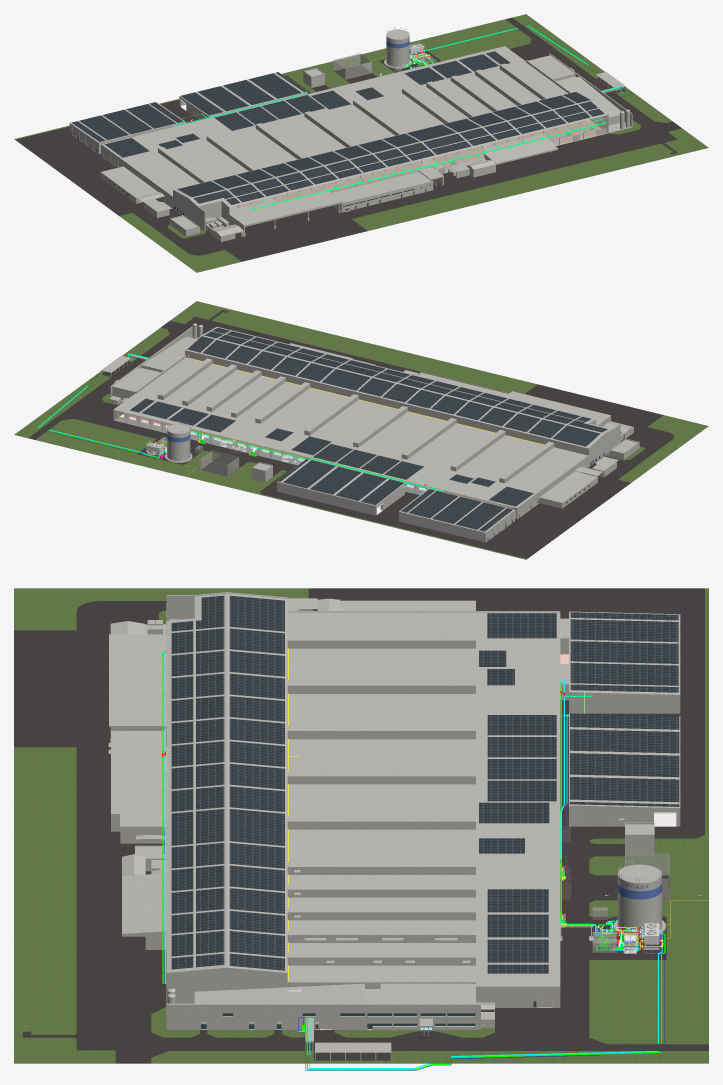
The model's file is 广州双叶厂房.glb.
3 renders of one model, top to bottom at view 1: azimuth 30°, elevation 25°; view 2: azimuth 150°, elevation 25°; view 3: azimuth 270°, elevation 25°, orthographic. The views are drawn at different scales.
Parts seen in each view (by area): view 1: 建筑屋顶, 场地, 建筑墙体, 建筑内部地面, BIM_蓄冷水罐_1_, 建筑门窗, BIM_开关阀_11_/02, BIM_开关阀_11_/01; view 2: 建筑屋顶, 场地, 建筑墙体, 建筑内部地面, BIM_蓄冷水罐_1_; view 3: 建筑屋顶, 场地, 建筑墙体, BIM_蓄冷水罐_1_, 建筑门窗, 管道_绿_常流动.001.
Part boxes in pixels (x1,y1,x2,y2): 建筑屋顶: (70,46,620,229); 场地: (14,14,708,272); 建筑墙体: (69,53,632,241); 建筑内部地面: (73,104,607,213); BIM_蓄冷水罐_1_: (384,27,411,68); 建筑门窗: (71,128,606,220); BIM_开关阀_11_/02: (251,117,606,209); BIM_开关阀_11_/01: (249,118,604,210); 建筑屋顶: (113,326,637,532); 场地: (14,301,708,559); 建筑墙体: (101,323,639,542); 建筑内部地面: (115,413,599,538); BIM_蓄冷水罐_1_: (165,421,192,462); 建筑屋顶: (109,593,680,1003); 场地: (14,588,708,1063); 建筑墙体: (108,592,680,1060); BIM_蓄冷水罐_1_: (613,860,665,938); 建筑门窗: (201,994,552,1029); 管道_绿_常流动.001: (306,933,665,1070).
Size of what is drawn, in the model's own units: 379 by 23.84 by 233.
Materials: 33 (15 with a texture image).
